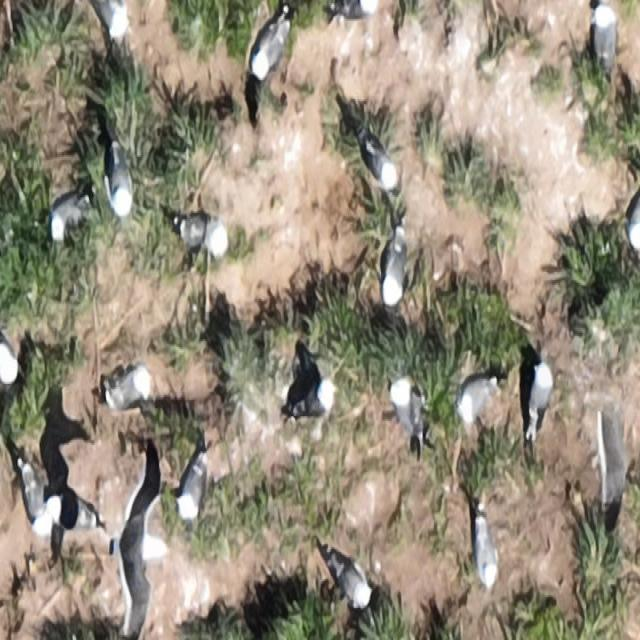F: (111, 464, 168, 626), (592, 403, 626, 542)
umineko: (174, 206, 228, 257), (357, 127, 399, 190), (389, 374, 421, 452), (20, 462, 52, 536), (177, 446, 208, 520), (291, 379, 340, 422), (41, 495, 98, 531), (106, 366, 149, 413), (474, 520, 498, 591), (106, 143, 128, 219), (383, 238, 404, 305), (339, 561, 368, 607), (594, 10, 617, 68), (101, 3, 135, 42), (458, 380, 492, 417), (532, 367, 554, 420), (51, 200, 80, 237), (341, 1, 374, 19)
